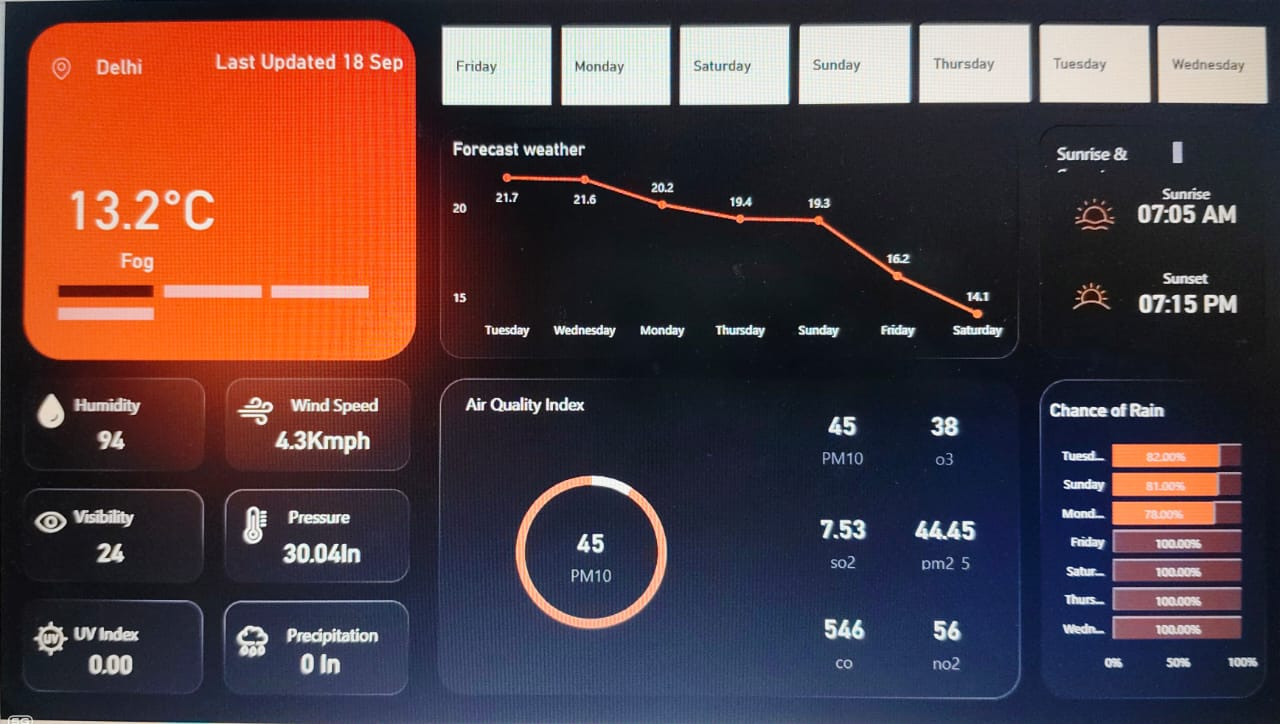

The page's visual inventory and layout, read from the dashboard file:
{"tool":"powerbi","page":{"name":"Page 1","canvas":[1280,720],"ordinal":0},"visuals":[{"type":"advancedSlicerVisual","fields":{"Values":["Location.location.name"]},"box":[35,281.1,360.7,67.6],"z":0},{"type":"card","fields":{"Values":["_Measures.Current_temp_C"]},"box":[53.1,170.1,174.9,70],"z":1000},{"type":"card","fields":{"Values":["Min(Current.current.condition.text)"]},"box":[49.5,243.7,179.8,37.4],"z":2000},{"type":"card","fields":{"Values":["Min(Current.location.name)"]},"box":[35.2,49.6,165.7,37.8],"z":3000},{"type":"image","box":[35.2,53.5,47,31.3],"z":4000},{"type":"card","fields":{"Values":["_Measures.Last_updated_date_current"]},"box":[201,49.6,216.6,28.7],"z":5000},{"type":"cardVisual","fields":{"Data":["Min(Current.current.condition.icon)"]},"box":[35,84.5,117,111],"z":6000},{"type":"image","box":[24.7,388.3,57.6,45.3],"z":7000},{"type":"textbox","box":[72.7,388.3,93.3,45.3],"z":8000},{"type":"textbox","box":[72.7,499.5,93.3,35.7],"z":9000},{"type":"image","box":[24.7,499.5,57.6,45.3],"z":10000},{"type":"image","box":[24.7,614.8,57.6,45.3],"z":11000},{"type":"image","box":[227.8,388.3,57.6,45.3],"z":12000},{"type":"image","box":[229.2,500.9,57.6,45.3],"z":13000},{"type":"image","box":[227.8,614.8,57.6,45.3],"z":14000},{"type":"textbox","box":[72.7,614.8,93.3,45.3],"z":15000},{"type":"textbox","box":[286.8,388.3,119.4,45.3],"z":16000},{"type":"textbox","box":[285.4,499.5,120.8,35.7],"z":17000},{"type":"textbox","box":[285.4,614.8,131.7,45.3],"z":18000},{"type":"card","fields":{"Values":["Sum(Current.current.humidity)"]},"box":[78.2,411.7,72.7,54.9],"z":19000},{"type":"card","fields":{"Values":["_Measures.wind_speed"]},"box":[264.9,411.5,118.4,54.8],"z":20000},{"type":"card","fields":{"Values":["Sum(Current.current.vis_km)"]},"box":[78.4,524,72.5,54.8],"z":21000},{"type":"card","fields":{"Values":["_Measures.pressure"]},"box":[264.9,524,118.4,54.8],"z":22000},{"type":"card","fields":{"Values":["_Measures.precipitation"]},"box":[264.9,632,118.4,54.8],"z":23000},{"type":"card","fields":{"Values":["Sum(Current.current.uv)"]},"box":[78.4,633.5,72.5,54.8],"z":24000},{"type":"advancedSlicerVisual","fields":{"Values":["Forcast_Day.Day_name"]},"box":[436.4,24.7,828.8,86.4],"z":25000},{"type":"lineChart","title":"Forecast weather","fields":{"Category":["Forcast_Day.Day_name"],"Y":["Sum(Forcast_Day.forecast.forecastday.day.avgtemp_c)"]},"box":[446.4,139.9,559.8,208.7],"z":26000},{"type":"textbox","box":[1042.4,139.9,132.7,39.8],"z":27000},{"type":"card","fields":{"Values":["Min(Forcast_Day.forecast.forecastday.astro.sunrise)"]},"box":[1113.5,193,123.1,44.6],"z":28000},{"type":"textbox","box":[1146.1,179.8,74.8,38.6],"z":29000},{"type":"card","fields":{"Values":["Min(Forcast_Day.forecast.forecastday.astro.sunset)"]},"box":[1113.5,281.1,123.1,44.6],"z":30000},{"type":"textbox","box":[1146.1,263,102.5,41],"z":31000},{"type":"image","box":[1042.4,191.8,83.2,48.3],"z":32000},{"type":"image","box":[1035.1,267.8,90.5,57.9],"z":33000},{"type":"hundredPercentStackedBarChart","title":"Chance of Rain","fields":{"Y":["Sum(Forcast_Day.forecast.forecastday.day.daily_chance_of_rain)","Current.Left_Value_rain"],"Category":["Forcast_Day.Day_name"]},"box":[1035.1,398.1,213.5,275.1],"z":34000},{"type":"textbox","box":[460.1,387.8,140.4,36.1],"z":35000},{"type":"card","fields":{"Values":["Sum(Current.current.air_quality.o3)"]},"box":[888.3,400.3,98.7,68.1],"z":36000},{"type":"card","fields":{"Values":["Sum(Current.current.air_quality.pm2_5)"]},"box":[888.3,501.8,98.7,68.1],"z":37000},{"type":"card","fields":{"Values":["Sum(Current.current.air_quality.no2)"]},"box":[888.3,599.1,98.7,68.1],"z":38000},{"type":"card","fields":{"Values":["Sum(Current.current.air_quality.pm10)"]},"box":[789.6,400.3,98.7,68.1],"z":39000},{"type":"card","fields":{"Values":["Sum(Current.current.air_quality.so2)"]},"box":[789.6,501.8,98.7,68.1],"z":40000},{"type":"card","fields":{"Values":["Sum(Current.current.air_quality.co)"]},"box":[789.6,599.1,98.7,68.1],"z":41000},{"type":"card","fields":{"Values":["Sum(Current.current.air_quality.pm10)"]},"box":[540.5,517.6,98.9,67.6],"z":42000},{"type":"donutChart","fields":{"Y":["Sum(Current.current.air_quality.pm10)","_Measures.Left_Value_PM_10"]},"box":[451.2,452.4,278.7,196.6],"z":43000}]}

Visuals, with their boxes in screenshot pixels (x1, y1, x2, y2), scaled from the page's 1280x720 canvas onto the 1280x724 screenshot:
advancedSlicerVisual - Location.location.name: (x1=35, y1=283, x2=396, y2=351)
card - _Measures.Current_temp_C: (x1=53, y1=171, x2=228, y2=241)
card - Min(Current.current.condition.text): (x1=50, y1=245, x2=229, y2=283)
card - Min(Current.location.name): (x1=35, y1=50, x2=201, y2=88)
image: (x1=35, y1=54, x2=82, y2=85)
card - _Measures.Last_updated_date_current: (x1=201, y1=50, x2=418, y2=79)
cardVisual - Min(Current.current.condition.icon): (x1=35, y1=85, x2=152, y2=197)
image: (x1=25, y1=390, x2=82, y2=436)
textbox: (x1=73, y1=390, x2=166, y2=436)
textbox: (x1=73, y1=502, x2=166, y2=538)
image: (x1=25, y1=502, x2=82, y2=548)
image: (x1=25, y1=618, x2=82, y2=664)
image: (x1=228, y1=390, x2=285, y2=436)
image: (x1=229, y1=504, x2=287, y2=549)
image: (x1=228, y1=618, x2=285, y2=664)
textbox: (x1=73, y1=618, x2=166, y2=664)
textbox: (x1=287, y1=390, x2=406, y2=436)
textbox: (x1=285, y1=502, x2=406, y2=538)
textbox: (x1=285, y1=618, x2=417, y2=664)
card - Sum(Current.current.humidity): (x1=78, y1=414, x2=151, y2=469)
card - _Measures.wind_speed: (x1=265, y1=414, x2=383, y2=469)
card - Sum(Current.current.vis_km): (x1=78, y1=527, x2=151, y2=582)
card - _Measures.pressure: (x1=265, y1=527, x2=383, y2=582)
card - _Measures.precipitation: (x1=265, y1=636, x2=383, y2=691)
card - Sum(Current.current.uv): (x1=78, y1=637, x2=151, y2=692)
advancedSlicerVisual - Forcast_Day.Day_name: (x1=436, y1=25, x2=1265, y2=112)
"Forecast weather" lineChart: (x1=446, y1=141, x2=1006, y2=351)
textbox: (x1=1042, y1=141, x2=1175, y2=181)
card - Min(Forcast_Day.forecast.forecastday.astro.sunrise): (x1=1114, y1=194, x2=1237, y2=239)
textbox: (x1=1146, y1=181, x2=1221, y2=220)
card - Min(Forcast_Day.forecast.forecastday.astro.sunset): (x1=1114, y1=283, x2=1237, y2=328)
textbox: (x1=1146, y1=264, x2=1249, y2=306)
image: (x1=1042, y1=193, x2=1126, y2=241)
image: (x1=1035, y1=269, x2=1126, y2=328)
"Chance of Rain" hundredPercentStackedBarChart: (x1=1035, y1=400, x2=1249, y2=677)
textbox: (x1=460, y1=390, x2=600, y2=426)
card - Sum(Current.current.air_quality.o3): (x1=888, y1=403, x2=987, y2=471)
card - Sum(Current.current.air_quality.pm2_5): (x1=888, y1=505, x2=987, y2=573)
card - Sum(Current.current.air_quality.no2): (x1=888, y1=602, x2=987, y2=671)
card - Sum(Current.current.air_quality.pm10): (x1=790, y1=403, x2=888, y2=471)
card - Sum(Current.current.air_quality.so2): (x1=790, y1=505, x2=888, y2=573)
card - Sum(Current.current.air_quality.co): (x1=790, y1=602, x2=888, y2=671)
card - Sum(Current.current.air_quality.pm10): (x1=540, y1=520, x2=639, y2=588)
donutChart - Sum(Current.current.air_quality.pm10) x _Measures.Left_Value_PM_10: (x1=451, y1=455, x2=730, y2=653)
